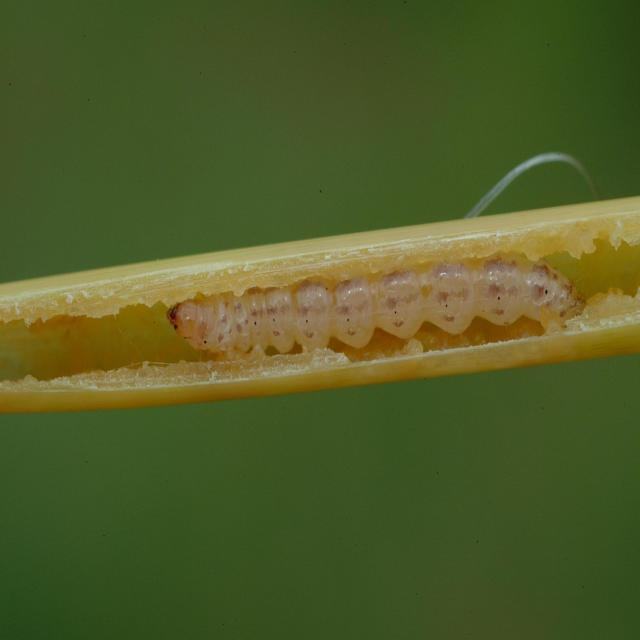yellow-stem-borer-larva: (144, 228, 613, 379)
